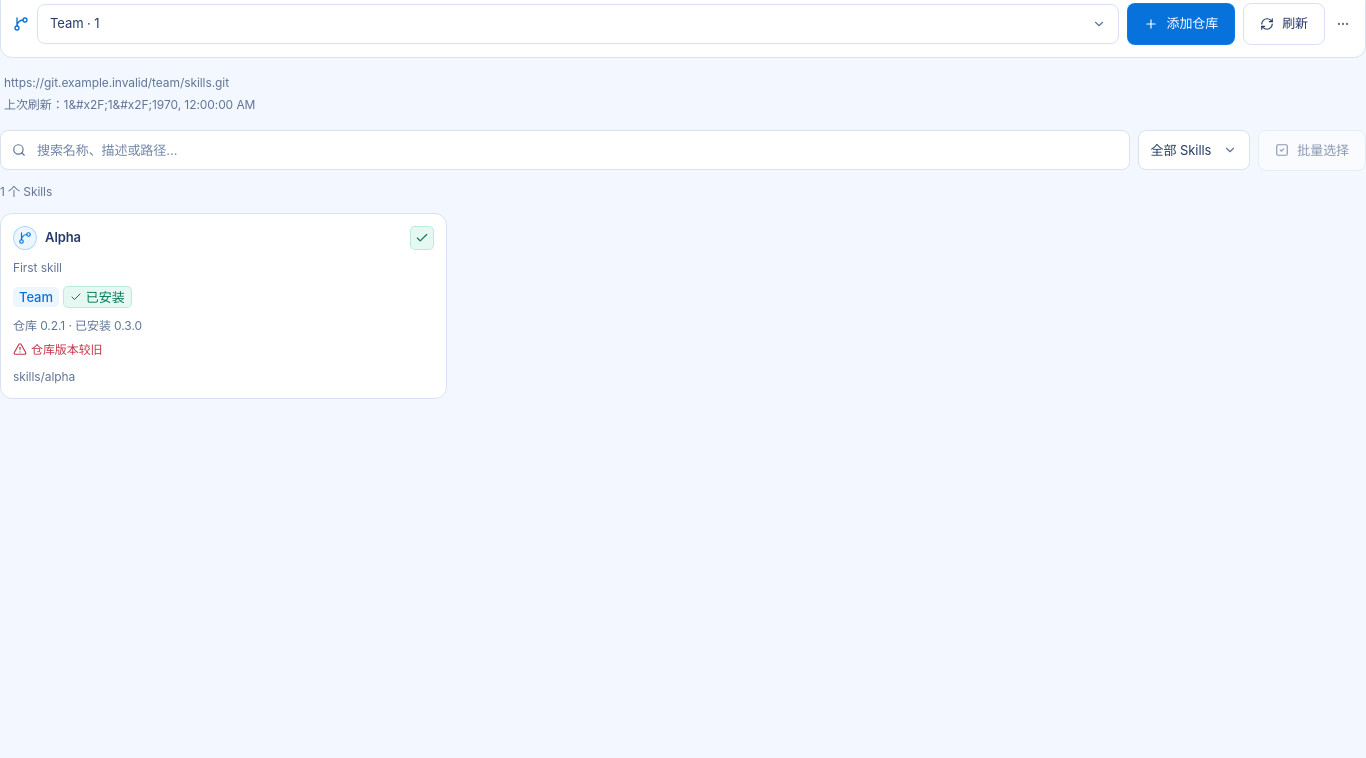
Test case: blocks installing an older remote version and points to a local working tree
The image size is (1366, 758).
Expected: the element that starts with "Alpha" shows "仓库版本较旧", [31,342,102,357]
Click the button "Alpha": [63, 238] box [45,228,81,248]
(page scrolled)
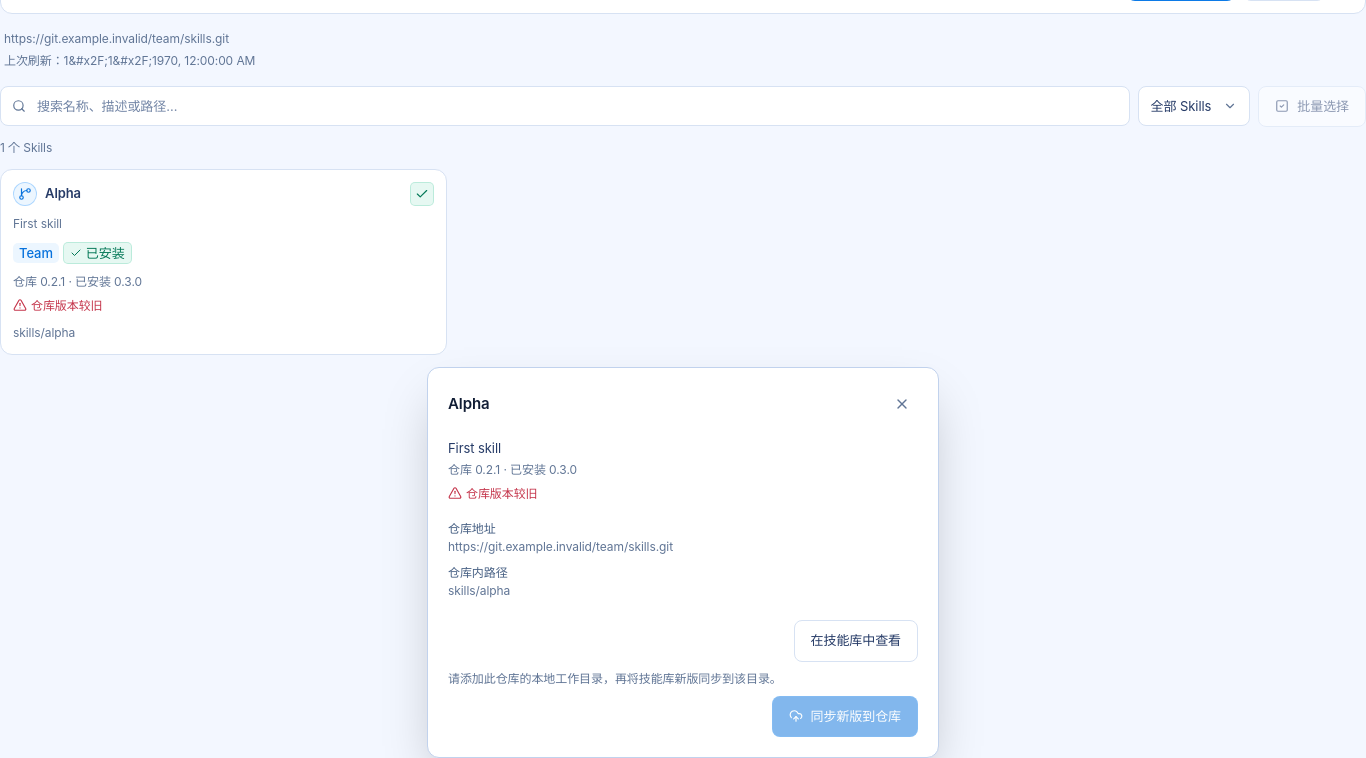
Result: the button "同步新版到仓库" is disabled at [772,696,918,737]
Result: the dialog shows "本地工作目录" at [448,670,782,686]
